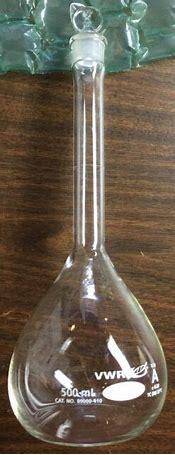Volumetric flask: (5, 13, 172, 448)
